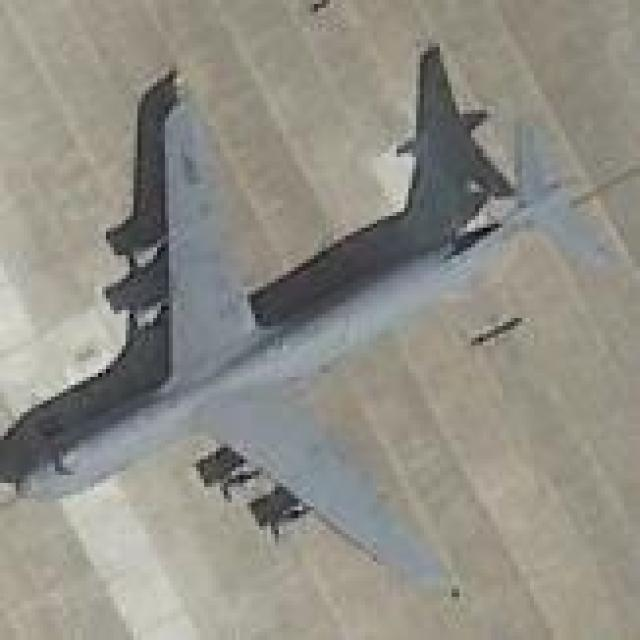C-5_TopDown: (0, 42, 614, 594)
